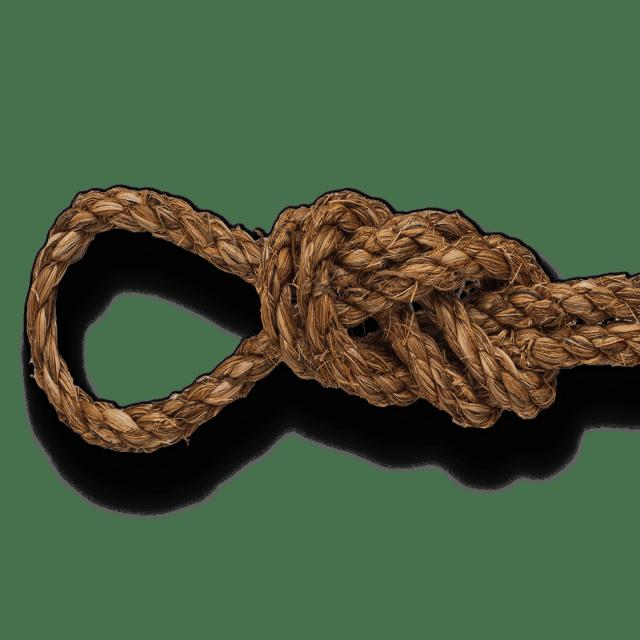Rope: (26, 163, 640, 480)
